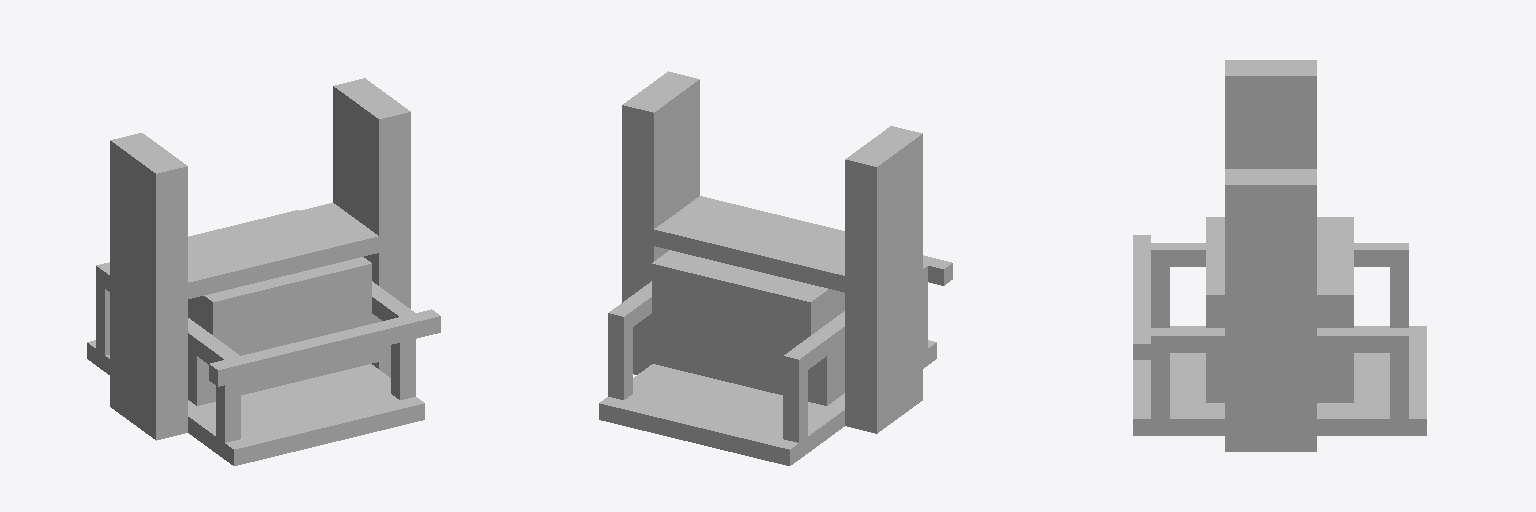
The model's file is loom.obj.
3 views of the same model, side by side, from view 1: azimuth 30°, elevation 25°; view 2: azimuth 150°, elevation 25°; view 3: azimuth 270°, elevation 25° (orthographic).
Visible parts, largest first — view 1: node_0_0_0; view 2: node_0_0_0; view 3: node_0_0_0.
Part boxes in pixels (bbox=[...]): node_0_0_0: bbox=[87, 78, 440, 465]; node_0_0_0: bbox=[599, 71, 952, 465]; node_0_0_0: bbox=[1133, 60, 1426, 451].
Bounding box in the file's own units: 1 × 1 × 1.